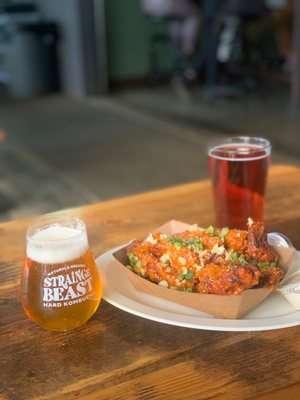pizza: (19, 215, 104, 332)
